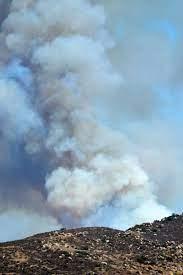smoke: (1, 1, 148, 214)
